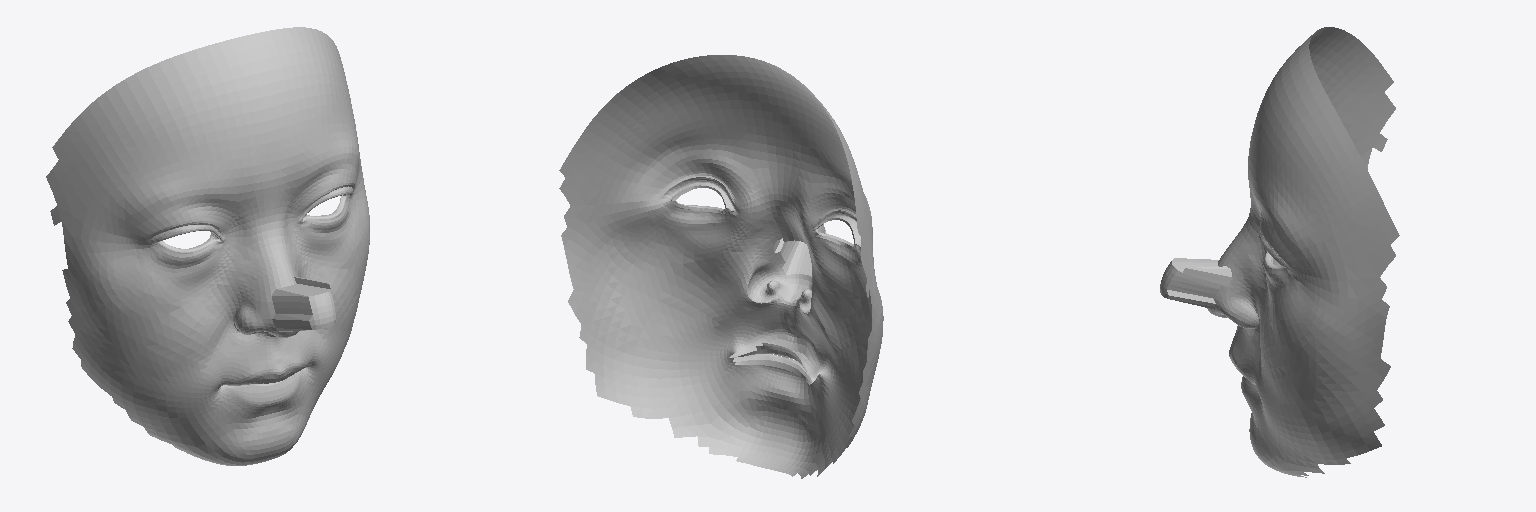
The model's file is mid.obj.
3 renders of one model, left to right at view 1: azimuth 30°, elevation 25°; view 2: azimuth 150°, elevation 25°; view 3: azimuth 270°, elevation 25°, orthographic.
Parts seen in each view (by area): view 1: in.001; view 2: in.001; view 3: in.001.
Part boxes in pixels (left/top/right/bottom): in.001: left=46, top=27, right=369, bottom=465; in.001: left=559, top=55, right=883, bottom=478; in.001: left=1160, top=27, right=1399, bottom=477.
Bounding box in the file's own units: 13.57 × 17.82 × 9.28.